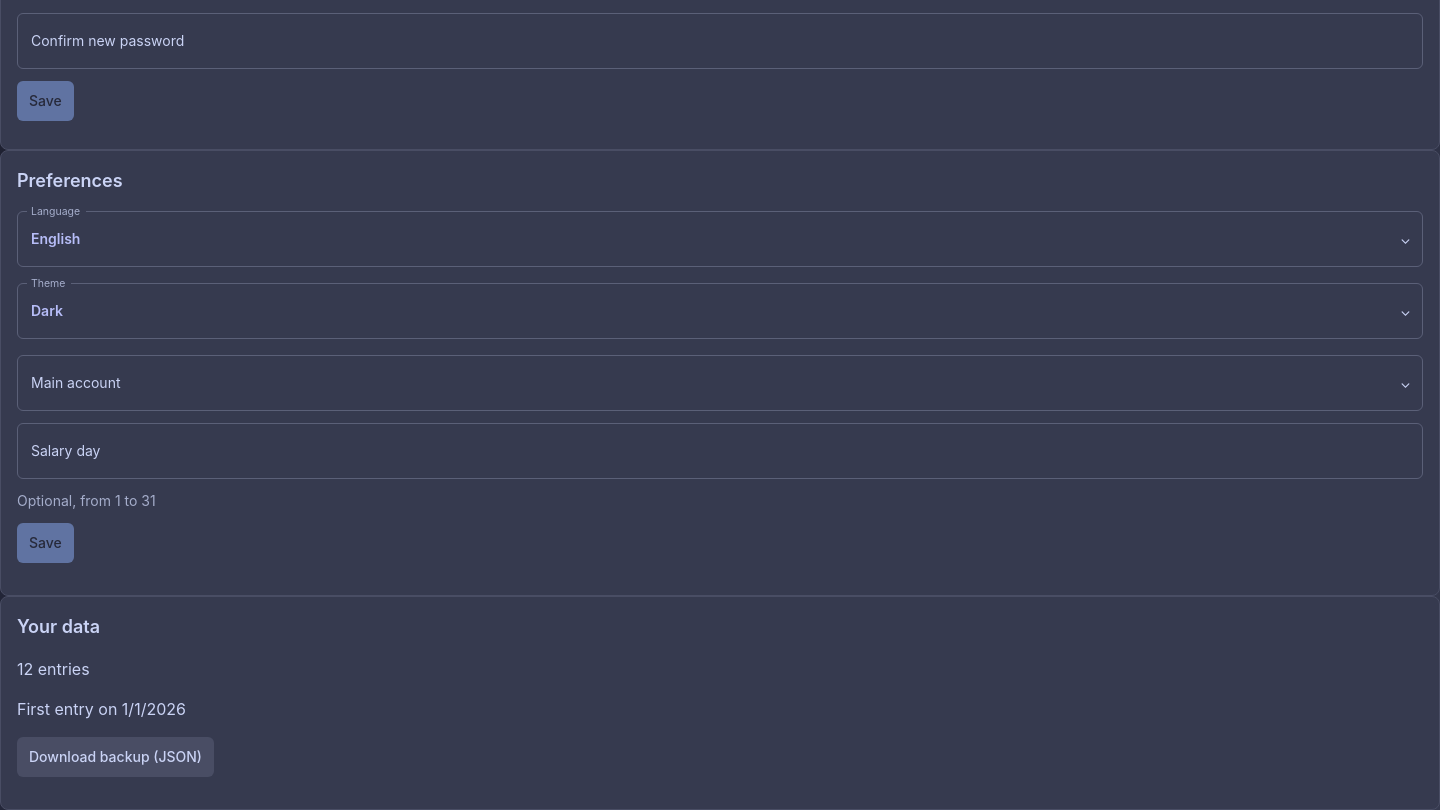
validates salary day and saves main account preferences
This screenshot has width=1440, height=810.
(page scrolled)
Expected: the button "Save" below "Optional, from 1 to 31" is disabled, [17,523,74,563]
Type "32" into the number field labelled "Salary day". click: point(720, 451)
box: [17,423,1423,479]
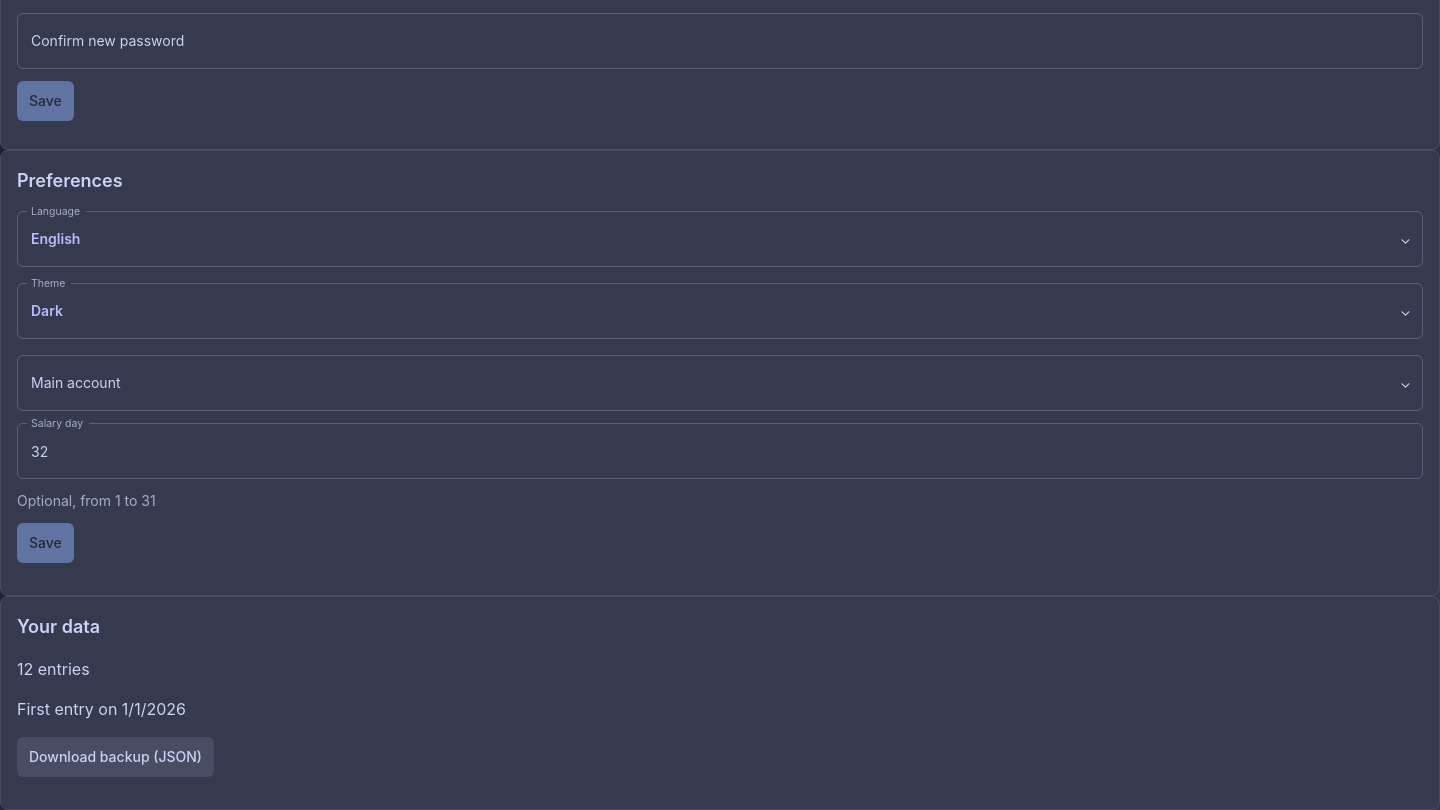
Expected: the button "Save" below "Optional, from 1 to 31" is disabled, [17,523,74,563]
Replace the text in the number field labelled "Salary day" with "15". click: point(720, 451)
box: [17,423,1423,479]
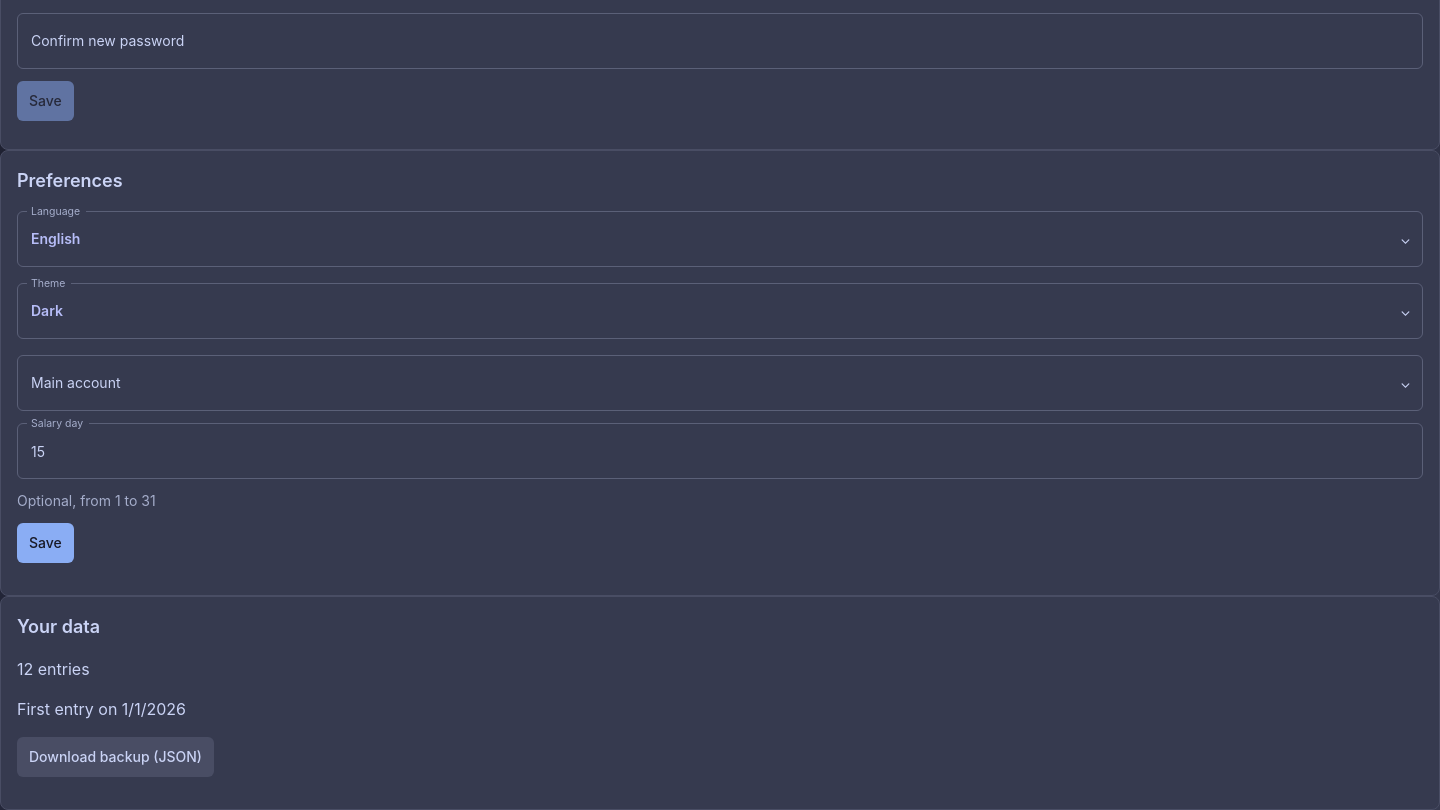
Select "Checking" in the dropdown labelled "Main account". click: point(720, 383)
box: [17,355,1423,411]
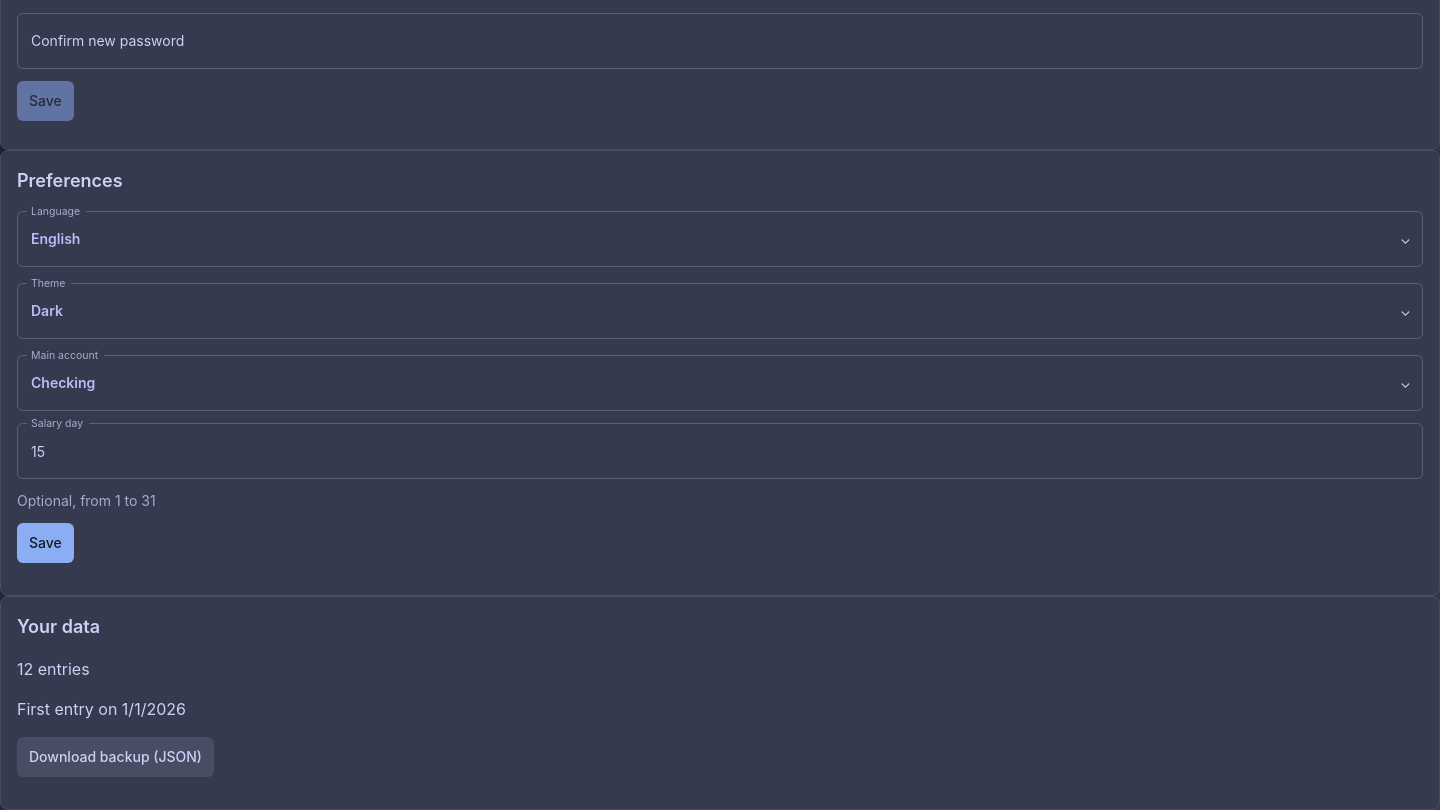
Click the button "Save" below "Optional, from 1 to 31". click: point(45, 543)
box: [17,523,74,563]
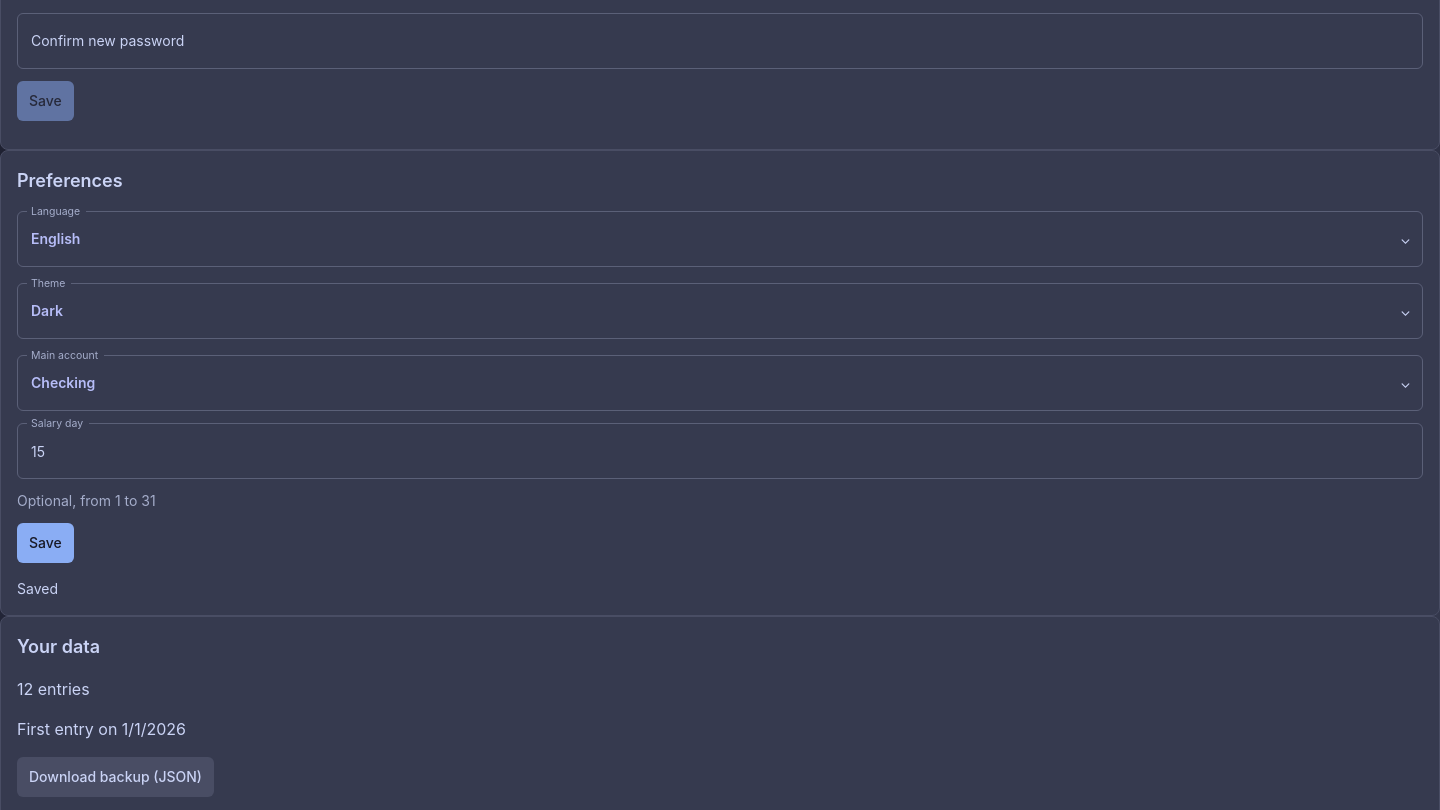
Expected: the text "Saved" is shown, [17,580,58,597]
